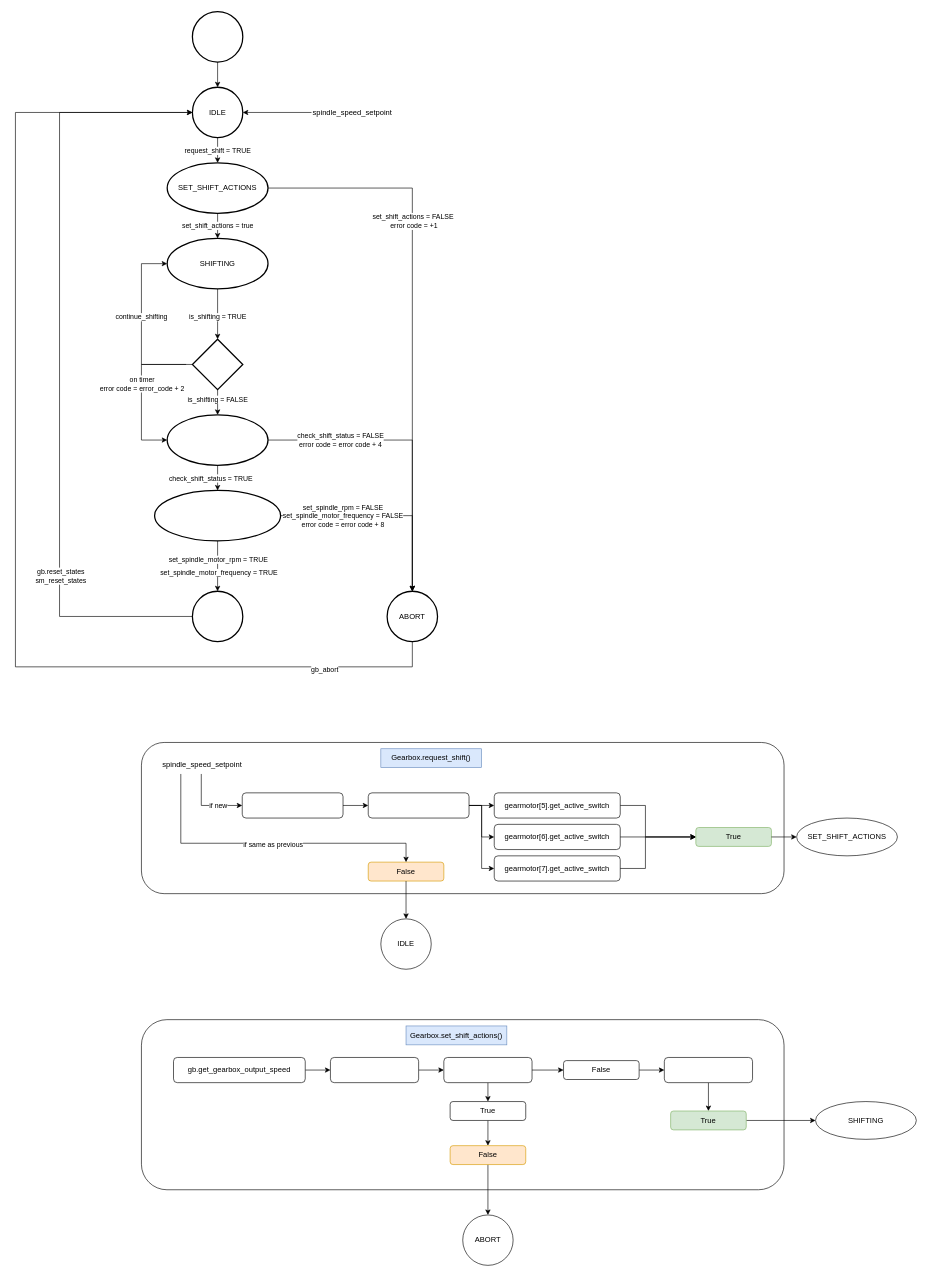
The diagram is 927 pixels wide and 1276 high, and some of its shapes have lost their labels. Each missing label, with the box of its shape:
CHECK_SHIFT_STATUS: (166, 414, 268, 466)
DONE: (191, 590, 243, 642)
gb.get_switch_targets: (330, 1057, 419, 1083)
gb.is_indeterminate: (443, 1057, 532, 1083)
gb.set_hirange_ratio: (368, 792, 469, 818)
gb.set_shift_sequence: (664, 1057, 753, 1083)
gb.update_switch_state(): (242, 792, 343, 818)
init: (191, 11, 243, 62)
SET_SPINDLE_MOTOR_SPEED: (154, 490, 281, 541)
